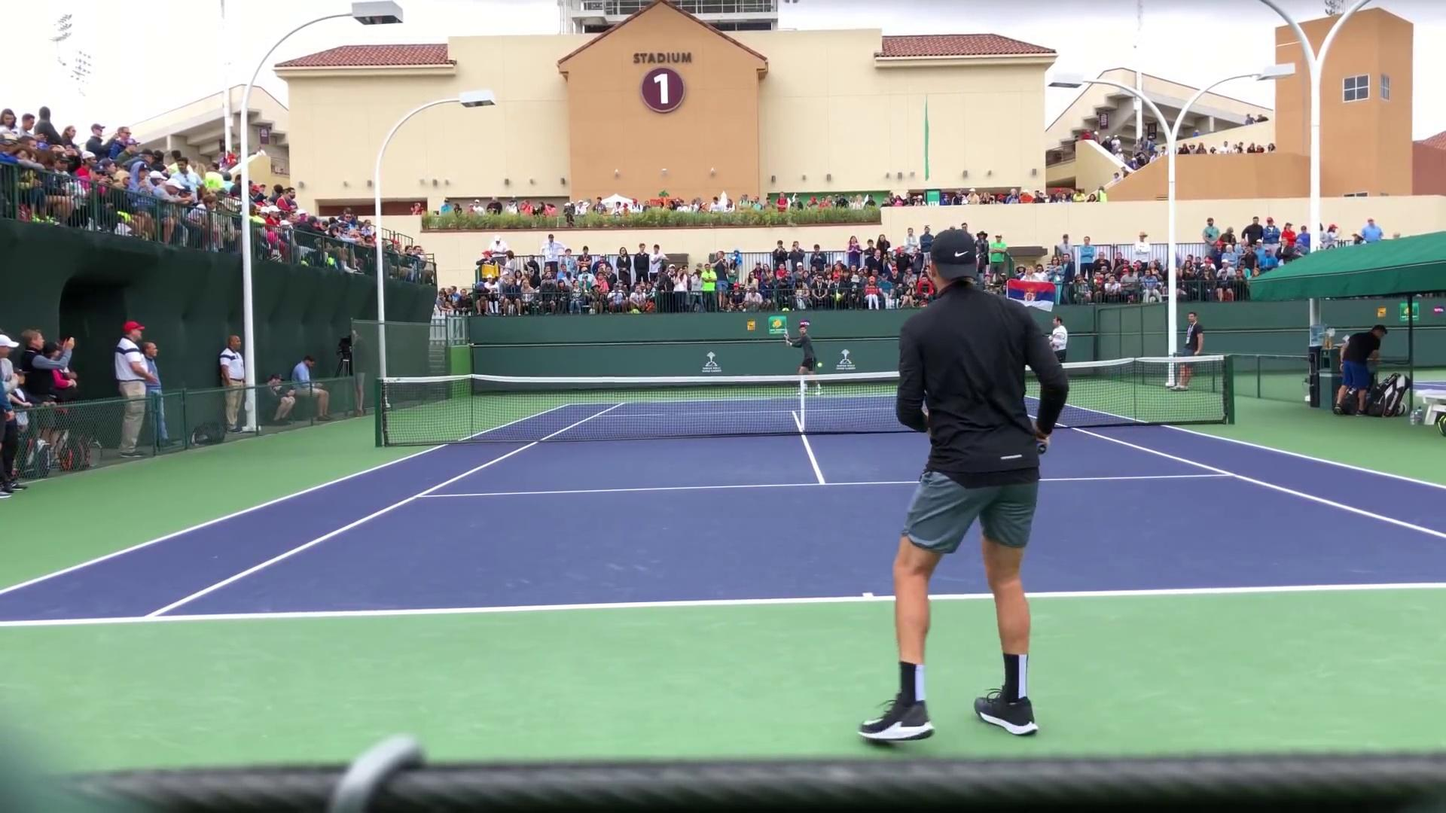ball: (816, 361, 823, 368)
